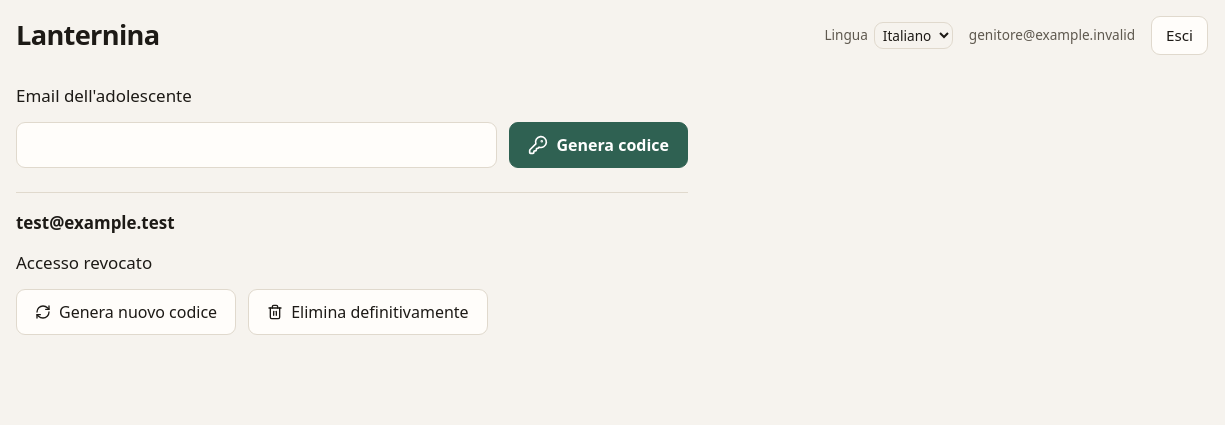
Test case: permanently removes a revoked invitation after confirmation
Click the button "Elimina definitivamente" at [368, 312], box top-left (248, 289), bottom-right (488, 335)
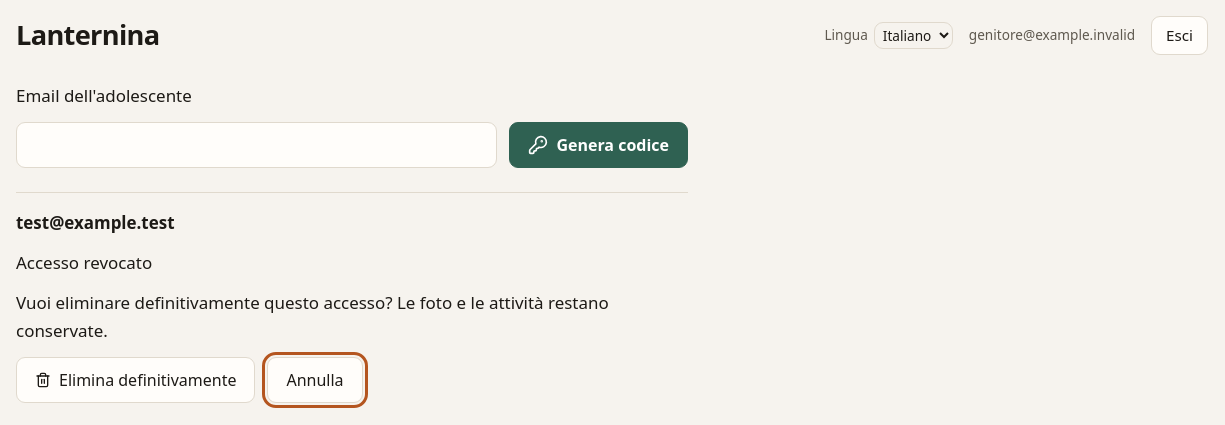
Click the button "Annulla" at [315, 380], box top-left (268, 357), bottom-right (363, 403)
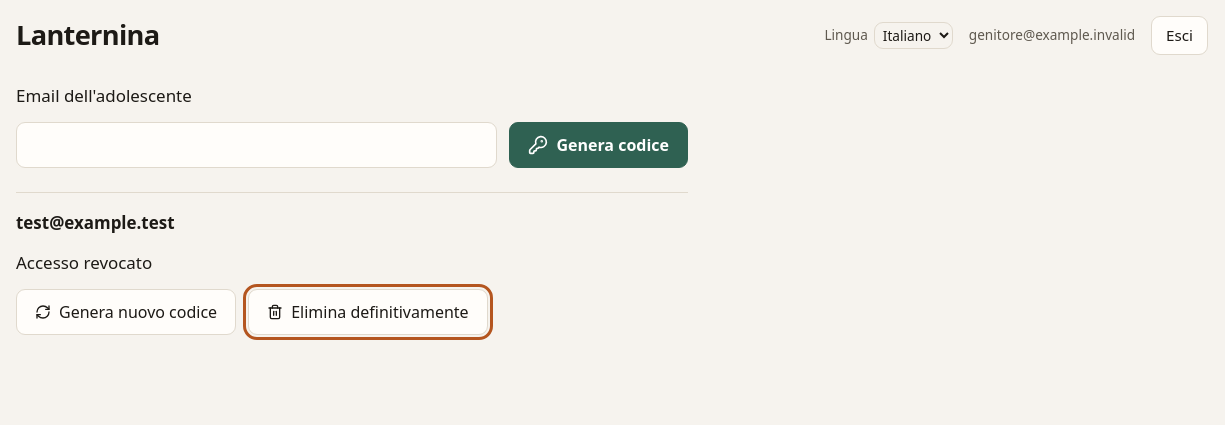
Click the button "Elimina definitivamente" at [368, 312], box top-left (248, 289), bottom-right (488, 335)
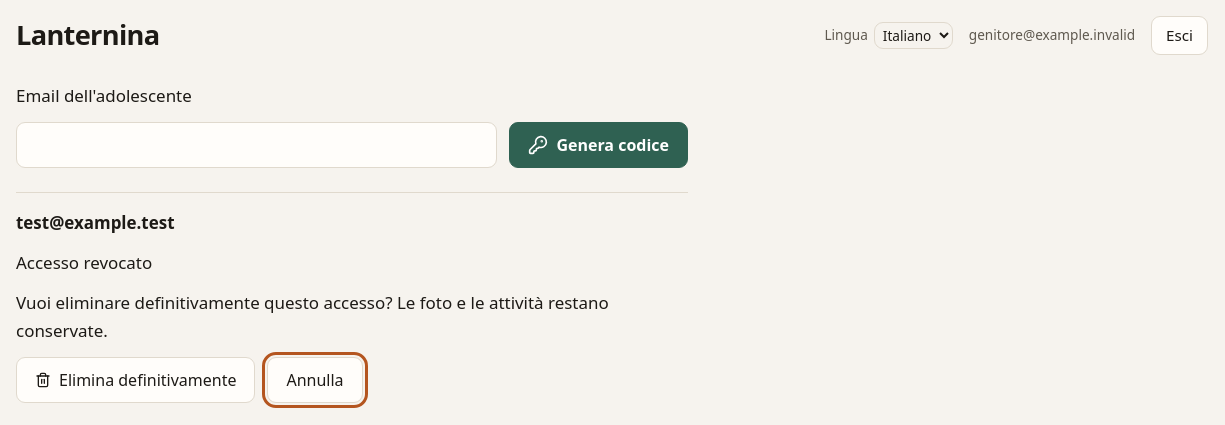
Check: the text "Le foto e le attività restano conservate" is shown, box top-left (16, 291), bottom-right (609, 342)
Click the button "Elimina definitivamente" at [136, 380], box top-left (16, 357), bottom-right (256, 403)
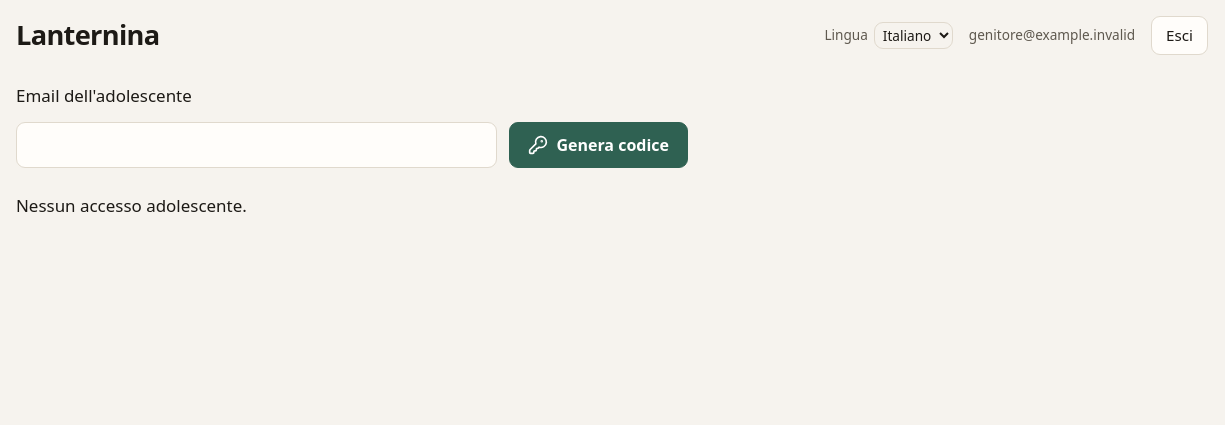
Check: the text "Nessun accesso adolescente." is shown, box top-left (16, 194), bottom-right (247, 217)
Check: the text "test@example.test" is gone
